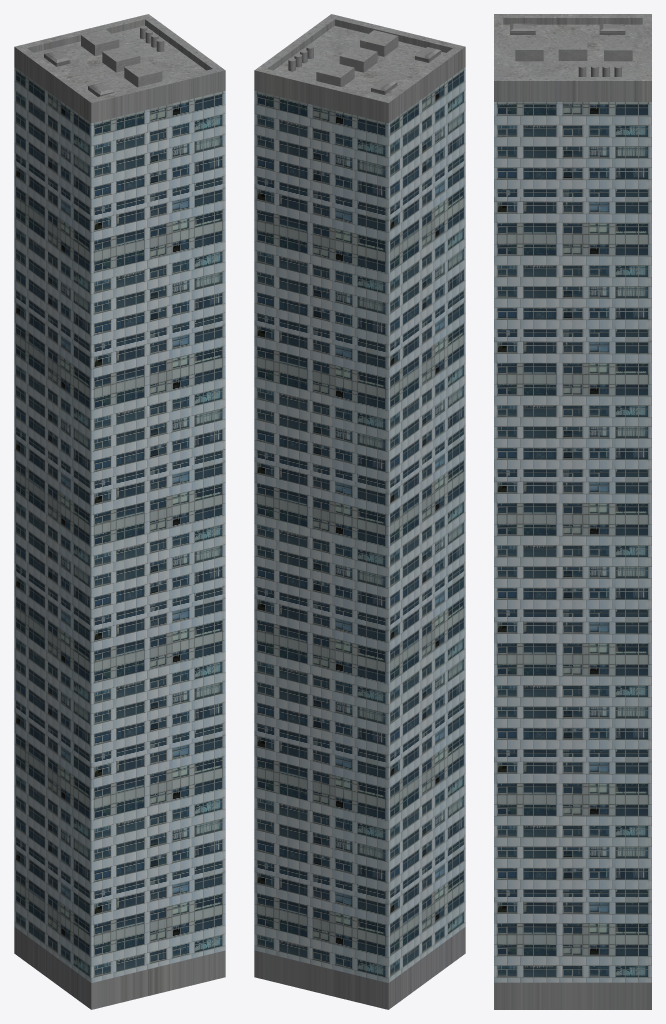
The model's file is high-rise-building.glb.
The picture shows the model from 3 angles, left to right: view 1: azimuth 30°, elevation 25°; view 2: azimuth 150°, elevation 25°; view 3: azimuth 270°, elevation 25°; orthographic projection. The views are drawn at different scales.
Visible parts, largest first — view 1: Cube.049; view 2: Cube.049; view 3: Cube.049.
Boxes of the visible parts, x1,y1,x2,y2 form: Cube.049: [14, 14, 225, 1009]; Cube.049: [254, 14, 465, 1009]; Cube.049: [494, 14, 651, 1009].
Bounding box in the file's own units: 12.3 × 79.85 × 12.23.
3 materials, 3 textured.
